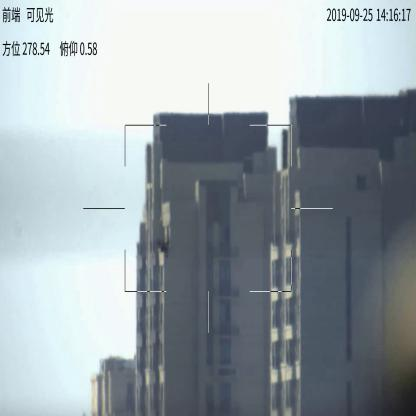uav: (155, 238, 172, 257)
